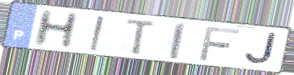F: (198, 25, 242, 62)
H: (30, 9, 81, 49)
I: (169, 21, 187, 61), (88, 15, 106, 53)
J: (243, 32, 278, 67)
T: (125, 18, 158, 56)
